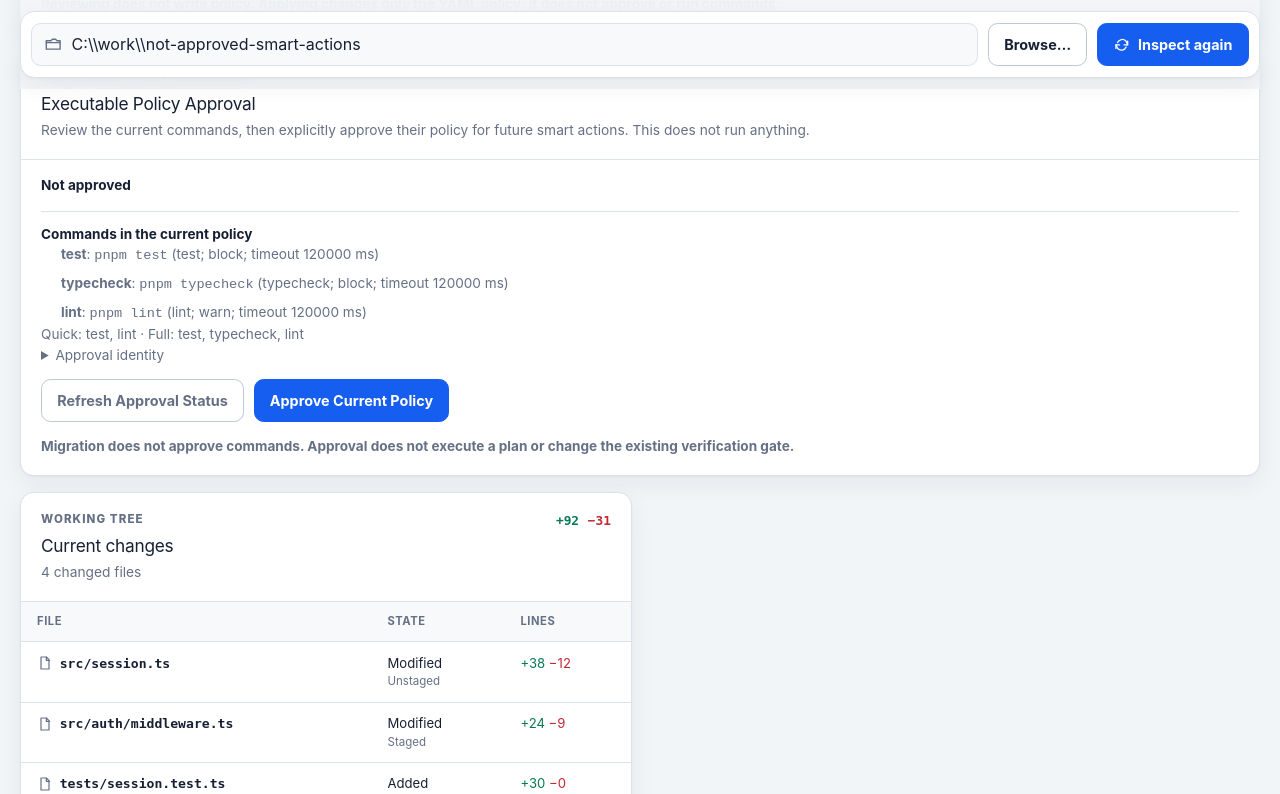
Test: desktop dashboard › keeps approved Quick and Full actions unavailable until policy approval is explicit
(page scrolled)
Click the button "Approve Current Policy" at (351, 401), box x1=254 y1=379 x2=449 y2=422
(page scrolled)
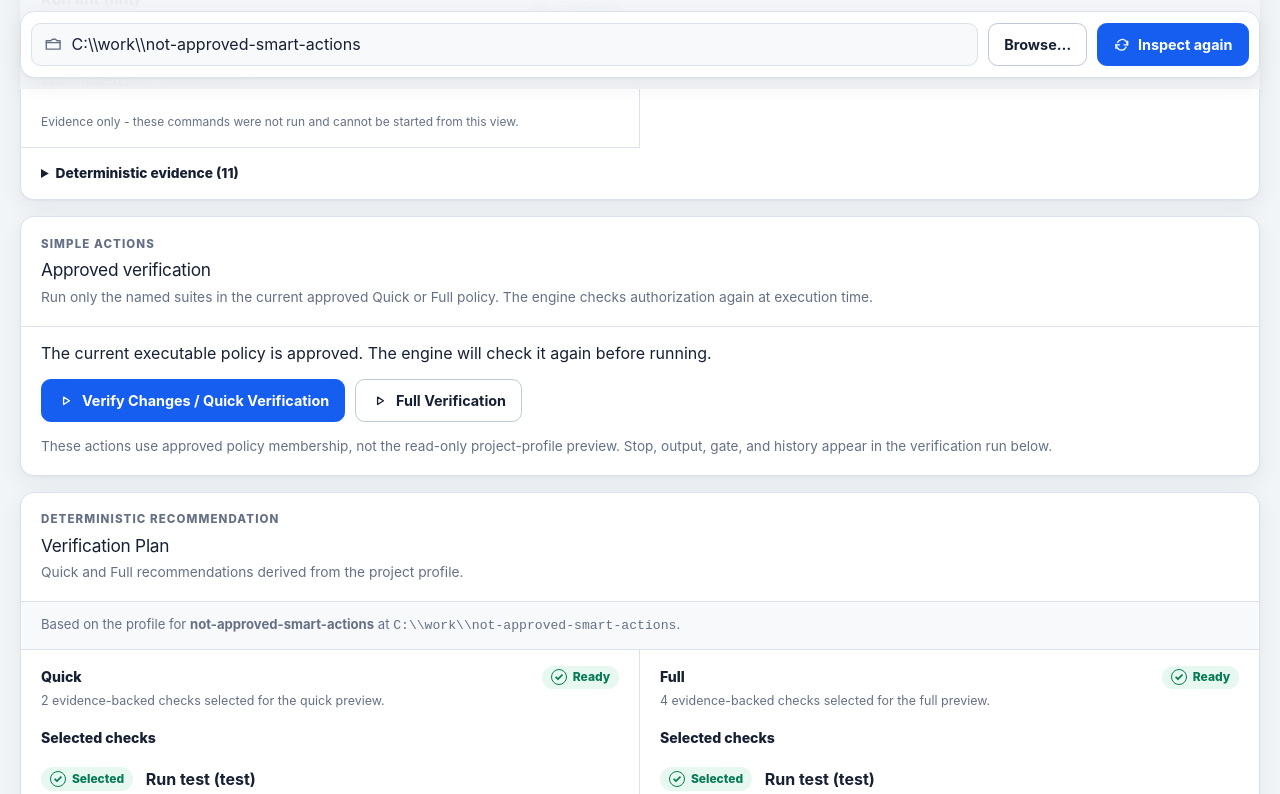
Result: the button "Verify Changes / Quick Verification" is enabled at x1=41 y1=379 x2=346 y2=422
